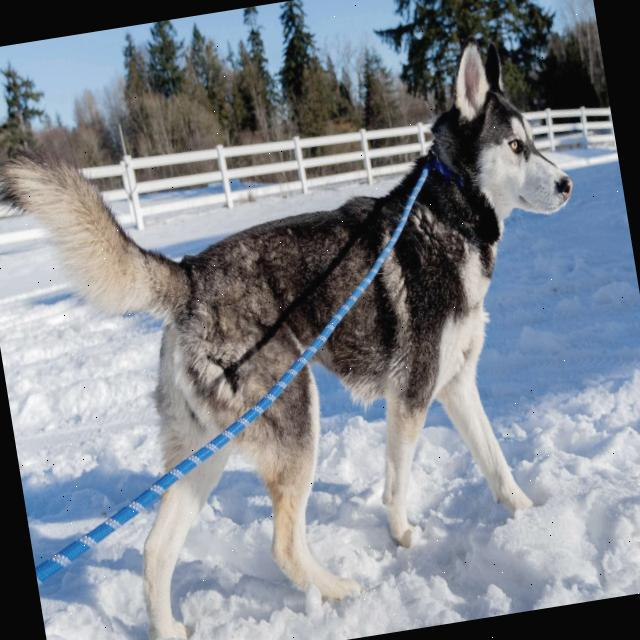siberian_husky_dog: (407, 23, 586, 258)
